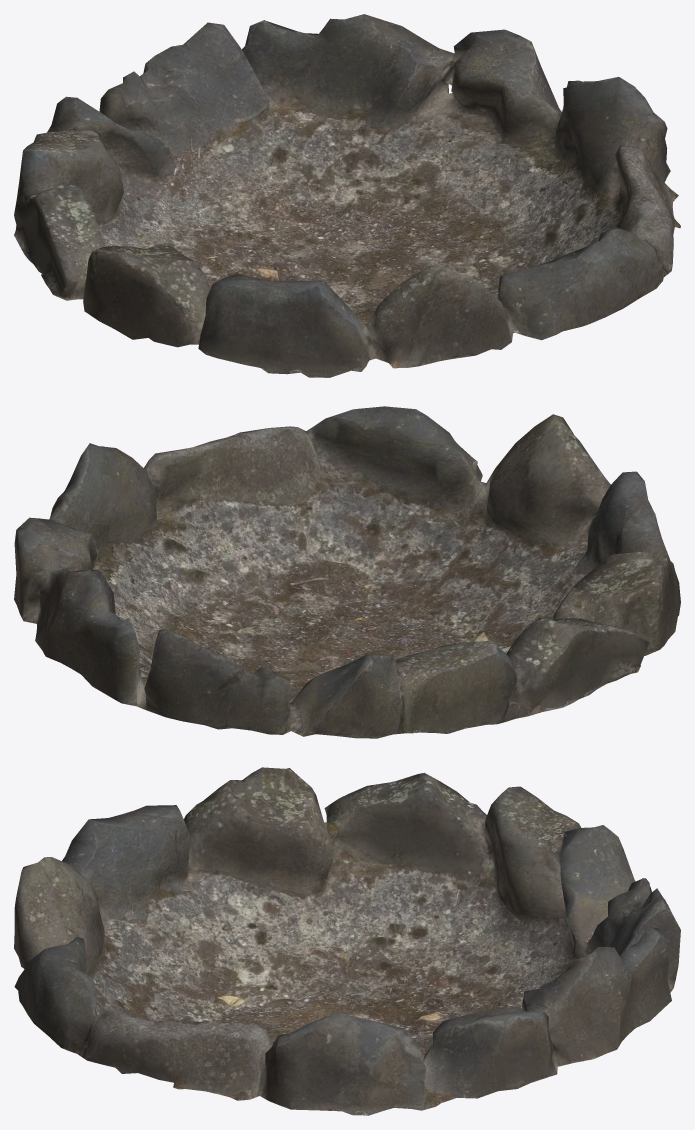
The model's file is stone_fire_pit.glb.
3 renders of one model, top to bottom at view 1: azimuth 30°, elevation 25°; view 2: azimuth 150°, elevation 25°; view 3: azimuth 270°, elevation 25°, orthographic.
Visible parts, largest first — view 1: stone_fire_pit; view 2: stone_fire_pit; view 3: stone_fire_pit.
Part boxes in pixels (x1,y1,x2,y2): stone_fire_pit: (14,14,680,377); stone_fire_pit: (14,406,680,738); stone_fire_pit: (14,767,680,1115).
Size of the model in its own units: 1.45 by 0.3883 by 1.43.
Materials: 1 (1 with a texture image).
